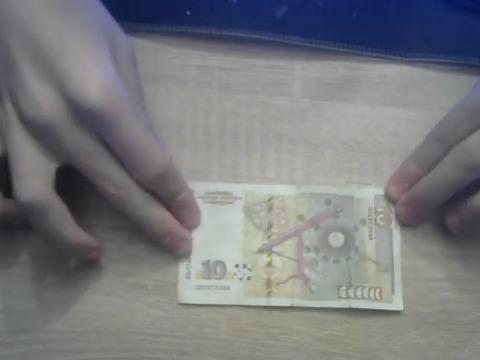10leva: (175, 180, 404, 315)
